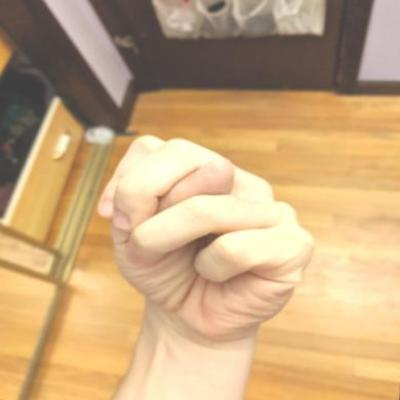hand: (78, 126, 330, 353)
